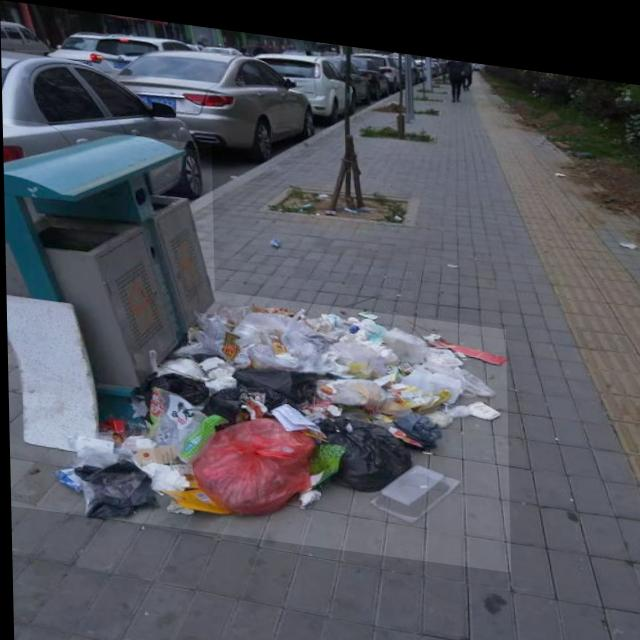garbage: (5, 263, 509, 559)
garbage_bin: (2, 118, 215, 394)
